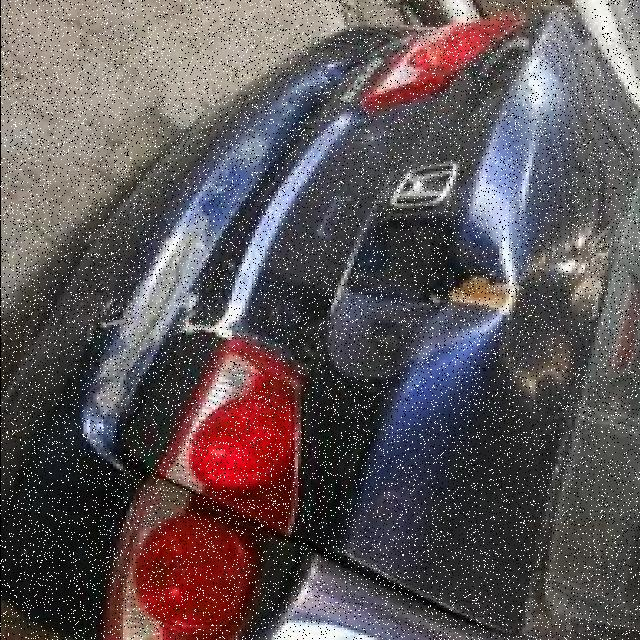Dent: (263, 170, 586, 402)
